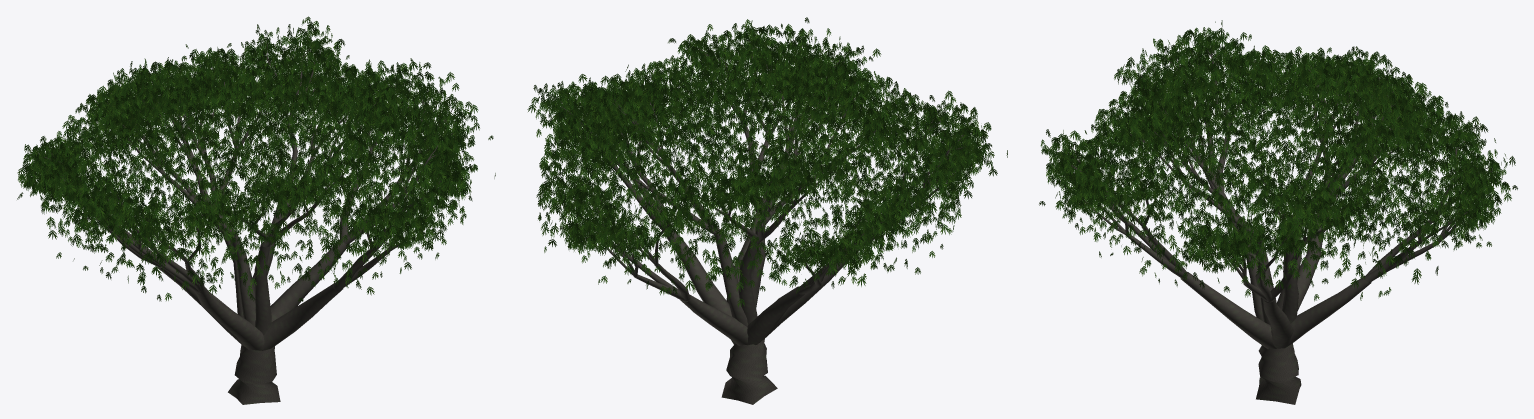
The model's file is MangoTree.glb.
The picture shows the model from 3 angles, left to right: view 1: azimuth 30°, elevation 25°; view 2: azimuth 150°, elevation 25°; view 3: azimuth 270°, elevation 25°; orthographic projection.
Visible parts, largest first — view 1: MangoTree_Leaves, MangoTree_Bark; view 2: MangoTree_Leaves, MangoTree_Bark; view 3: MangoTree_Leaves, MangoTree_Bark.
Part boxes in pixels (x1,y1,x2,y2): MangoTree_Leaves: [17, 16, 495, 302]; MangoTree_Bark: [44, 37, 453, 404]; MangoTree_Leaves: [527, 17, 1007, 307]; MangoTree_Bark: [560, 39, 964, 404]; MangoTree_Leaves: [1039, 20, 1517, 301]; MangoTree_Bark: [1062, 38, 1492, 404].
Bounding box in the file's own units: 18.21 × 13.52 × 18.12.
Materials: 2 (2 with a texture image).
